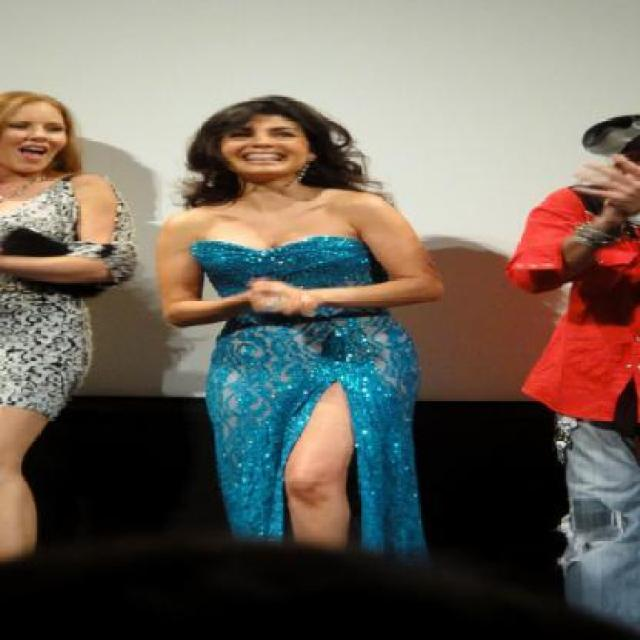sem_oculos: (0, 104, 80, 140), (203, 121, 309, 146)
